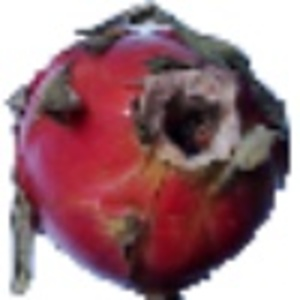pitaia: (5, 1, 293, 300)
